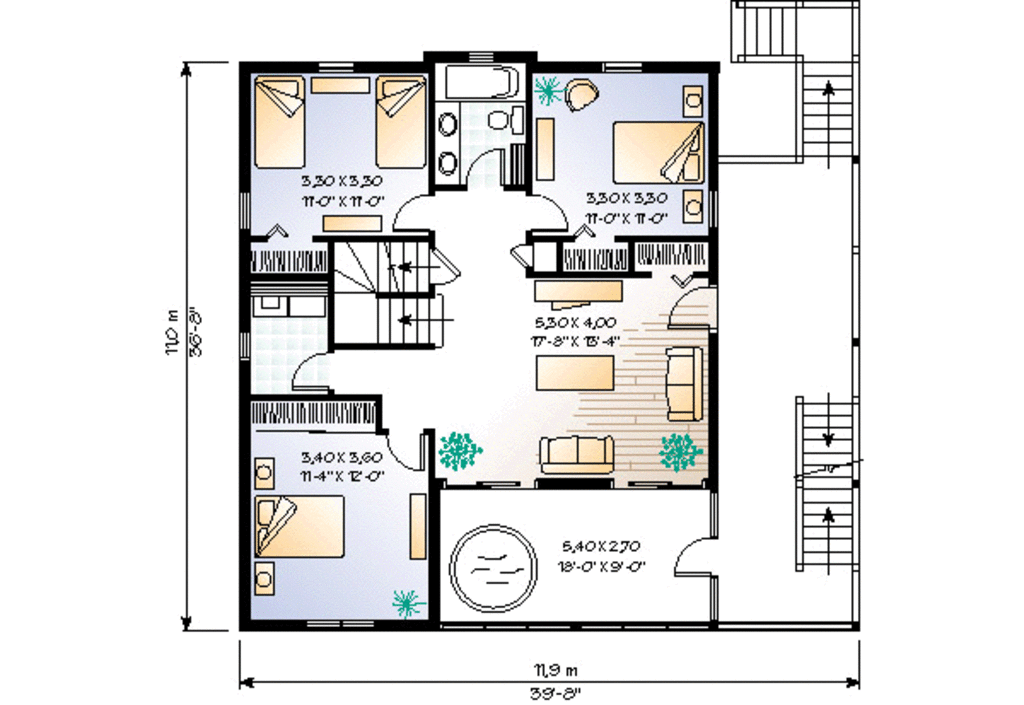bed: (606, 118, 706, 188), (250, 493, 348, 562), (248, 73, 310, 174), (373, 70, 429, 170)
door: (666, 283, 716, 329), (524, 190, 571, 238), (389, 194, 438, 237), (383, 429, 432, 471), (463, 145, 504, 194), (286, 349, 333, 390), (668, 536, 714, 577)
large_sink: (485, 105, 525, 136)
large_sofa: (660, 341, 705, 422), (536, 432, 616, 476)
small_sink: (433, 104, 462, 188)
stairs: (727, 2, 858, 161), (330, 241, 442, 356), (792, 391, 857, 573)
tub: (434, 61, 524, 107)
windows: (301, 615, 381, 633), (237, 190, 252, 232), (240, 329, 250, 361)
